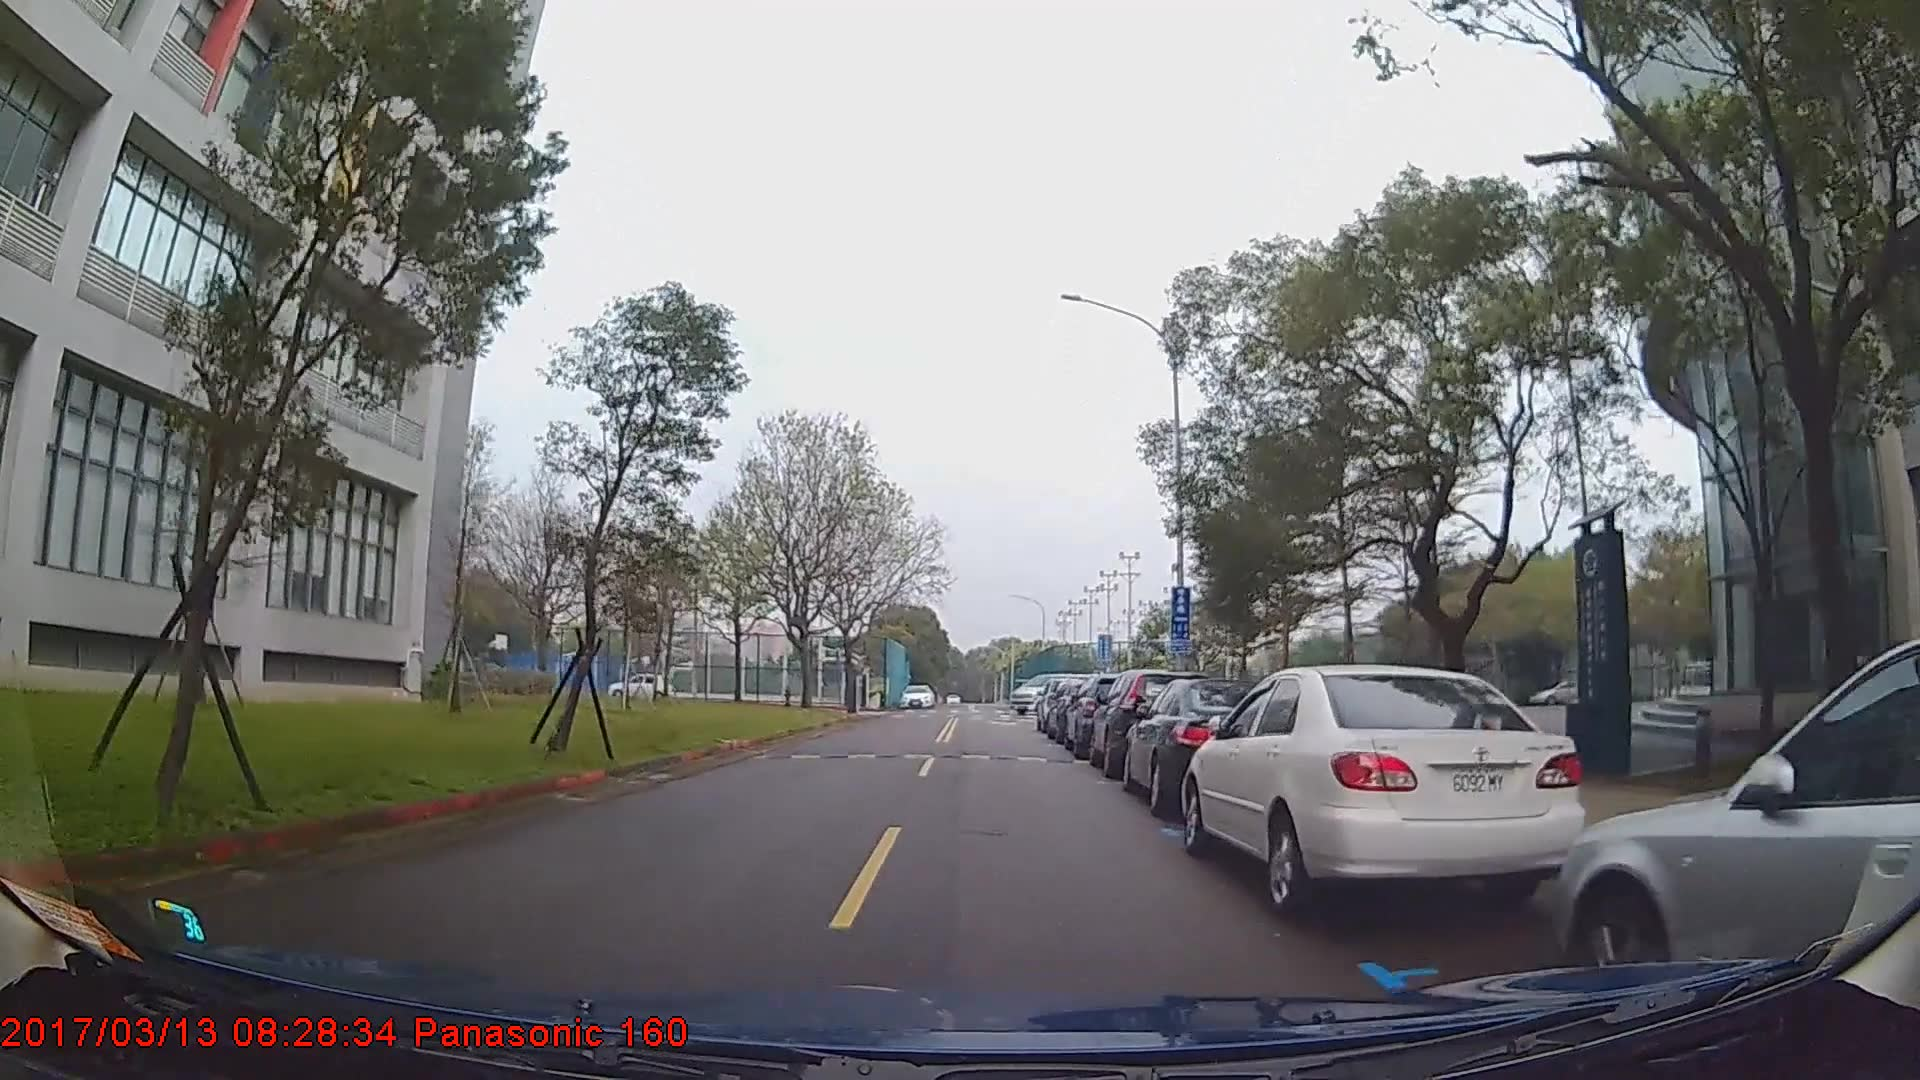vehicle: (1553, 638, 1920, 1011), (1180, 662, 1588, 919), (1124, 675, 1288, 818), (1087, 670, 1212, 777), (605, 671, 673, 699), (899, 684, 934, 708)
